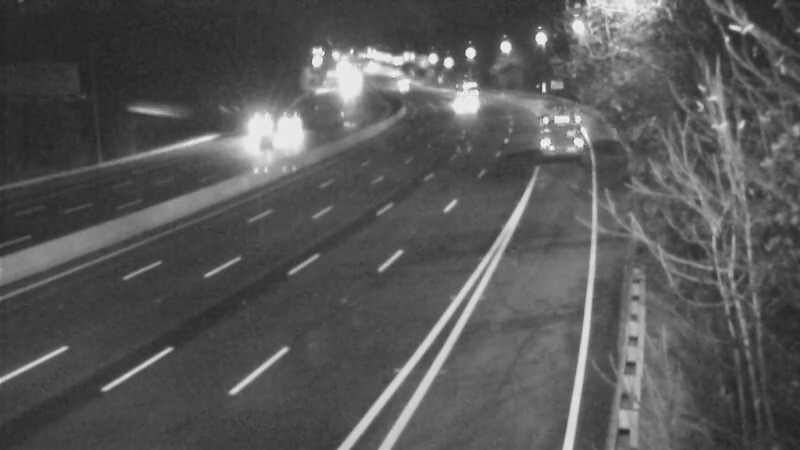vehicle: (441, 54, 491, 104), (445, 82, 495, 132), (525, 93, 575, 143), (231, 103, 281, 153), (266, 102, 316, 152)
